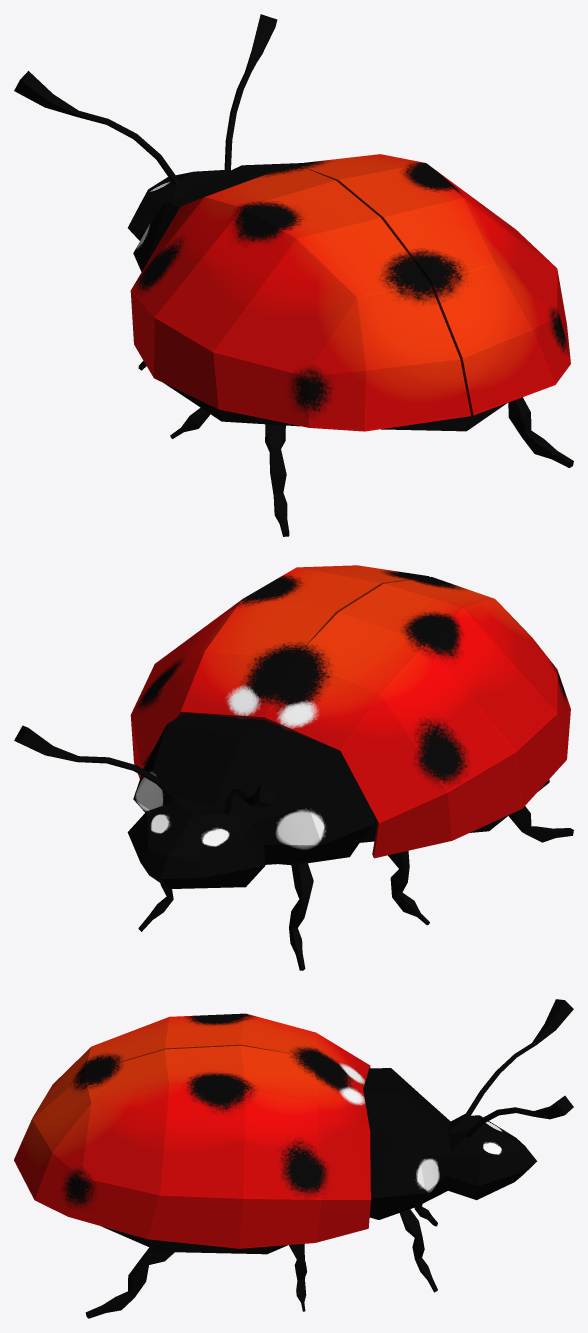
Rendered from 5789ab52-ec85-4bbd-a132-fbf5b20149c4.glb.
3 renders of one model, top to bottom at view 1: azimuth 30°, elevation 25°; view 2: azimuth 150°, elevation 25°; view 3: azimuth 270°, elevation 25°, orthographic. The views are drawn at different scales.
Parts seen in each view (by area): view 1: LadyBug_mesh; view 2: LadyBug_mesh; view 3: LadyBug_mesh.
Boxes of the visible parts, box(x1,y1,x2,y2) form: LadyBug_mesh: box(14, 14, 573, 536); LadyBug_mesh: box(14, 565, 573, 970); LadyBug_mesh: box(14, 999, 573, 1318).
Size of the model in its own units: 2.3 by 1.52 by 3.6.
1 material, 1 textured.
